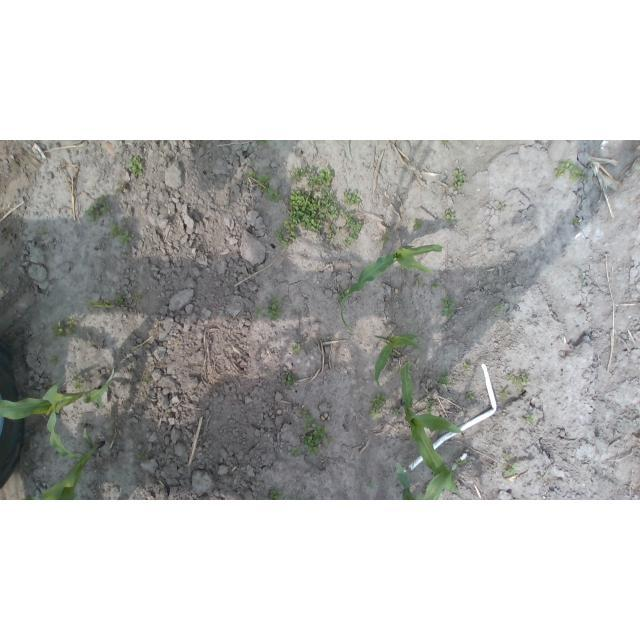Maize: (339, 243, 445, 335), (2, 409, 108, 499), (398, 362, 464, 495), (2, 368, 119, 421), (374, 334, 423, 386), (395, 462, 454, 499)
Weeds: (274, 164, 363, 244), (294, 407, 328, 458), (245, 170, 282, 206), (554, 162, 588, 182), (88, 295, 129, 310), (51, 316, 78, 337), (84, 199, 108, 219), (368, 395, 388, 418), (443, 295, 457, 320), (126, 158, 143, 177), (113, 226, 132, 243), (507, 372, 529, 386), (503, 456, 516, 478), (268, 298, 280, 321), (453, 171, 468, 189), (282, 369, 296, 388), (268, 488, 285, 500), (445, 205, 456, 223), (438, 370, 451, 384), (292, 341, 303, 355), (425, 398, 434, 415), (465, 394, 476, 407), (412, 220, 424, 231), (377, 235, 391, 244), (499, 387, 510, 398), (493, 302, 504, 313), (498, 202, 508, 212), (463, 362, 472, 371), (527, 415, 536, 424), (573, 218, 582, 227), (253, 307, 261, 315)
